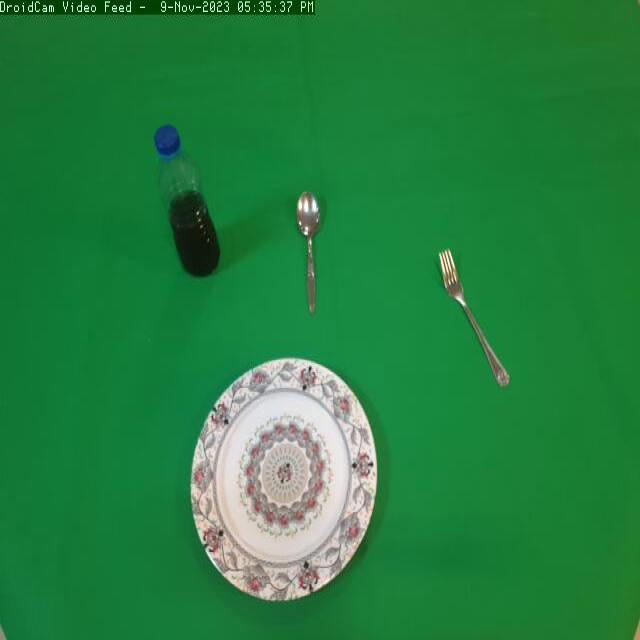fork: (434, 242, 525, 394)
fullbottle: (148, 114, 231, 288)
plate: (184, 347, 387, 609)
spoon: (294, 186, 336, 319)
